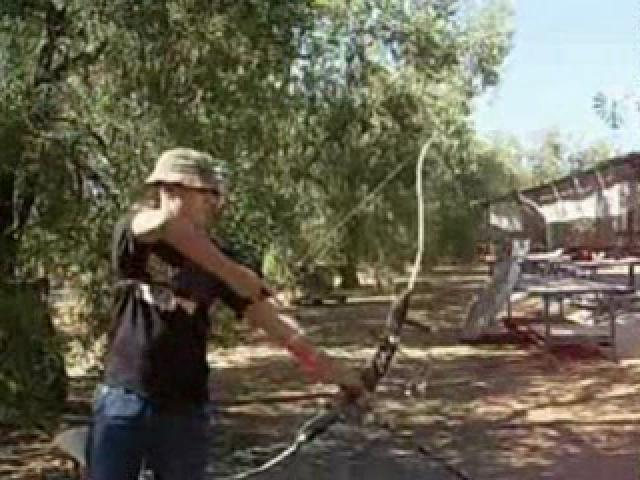I: (77, 126, 361, 480)
